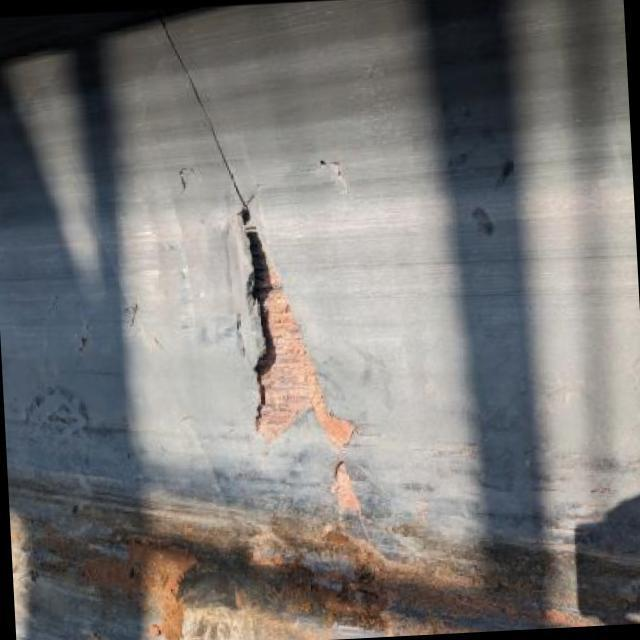Tear: (154, 2, 368, 522), (314, 150, 358, 195), (169, 159, 201, 202), (43, 270, 67, 327), (76, 314, 99, 360), (117, 300, 145, 330)
